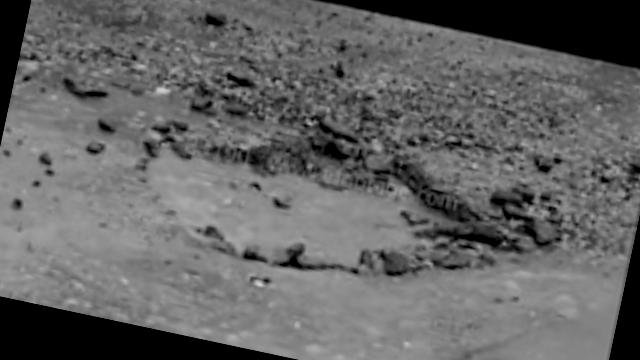Pothole: (82, 78, 600, 344)
